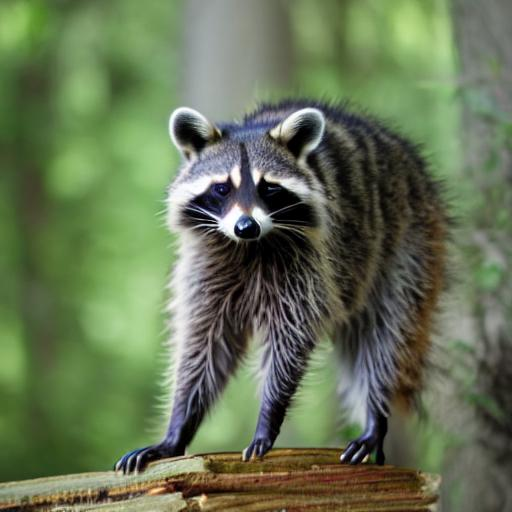raccoon: (138, 89, 462, 396)
